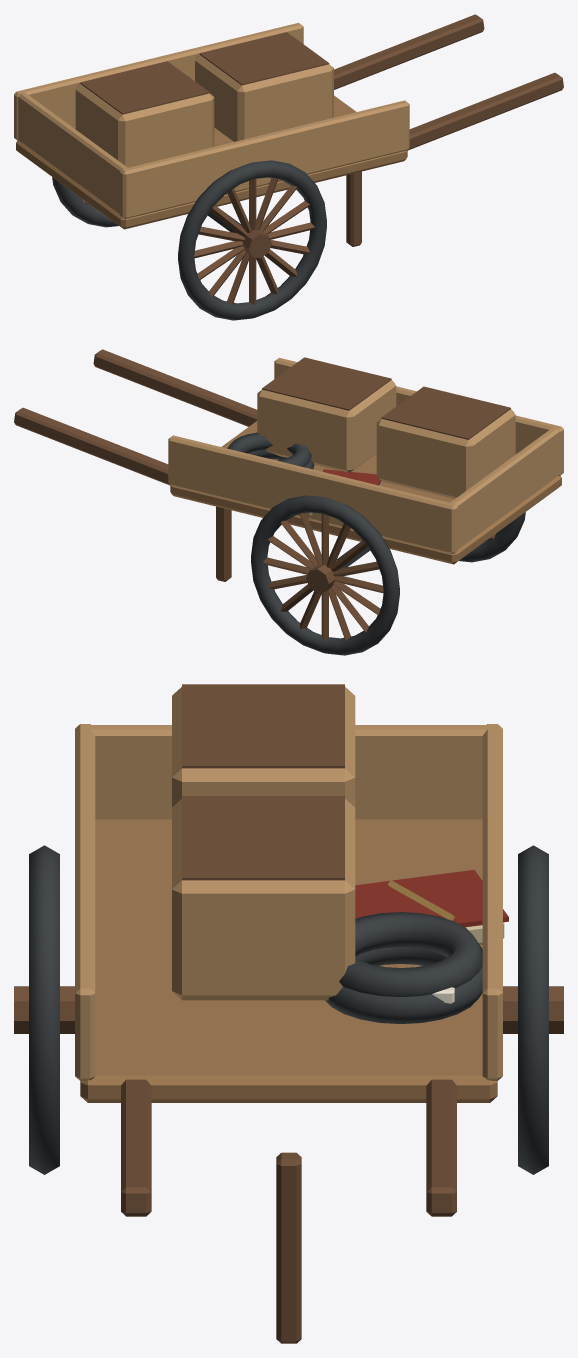
3 renders of one model, top to bottom at view 1: azimuth 30°, elevation 25°; view 2: azimuth 150°, elevation 25°; view 3: azimuth 270°, elevation 25°, orthographic. The views are drawn at different scales.
Parts seen in each view (by area): view 1: lane_wood_light, lane_wood_dark, lane_iron, lane_wood; view 2: lane_wood_light, lane_wood_dark, lane_iron, lane_wood, lane_red_dark; view 3: lane_wood_light, lane_wood, lane_wood_dark, lane_iron, lane_red_dark.
Part boxes in pixels (x1,y1,x2,y2): lane_wood_light: [14, 22, 409, 218]; lane_wood_dark: [80, 14, 563, 305]; lane_iron: [52, 160, 326, 320]; lane_wood: [16, 95, 407, 229]; lane_wood_light: [168, 357, 563, 553]; lane_wood_dark: [14, 349, 510, 640]; lane_iron: [227, 432, 525, 655]; lane_wood: [170, 421, 561, 564]; lane_red_dark: [322, 469, 380, 485]; lane_wood_light: [75, 687, 502, 1080]; lane_wood: [80, 819, 497, 1102]; lane_wood_dark: [14, 684, 563, 1343]; lane_iron: [29, 845, 548, 1174]; lane_red_dark: [355, 870, 508, 927].
Size of the model in its own units: 1.97 by 0.895 by 1.08.
